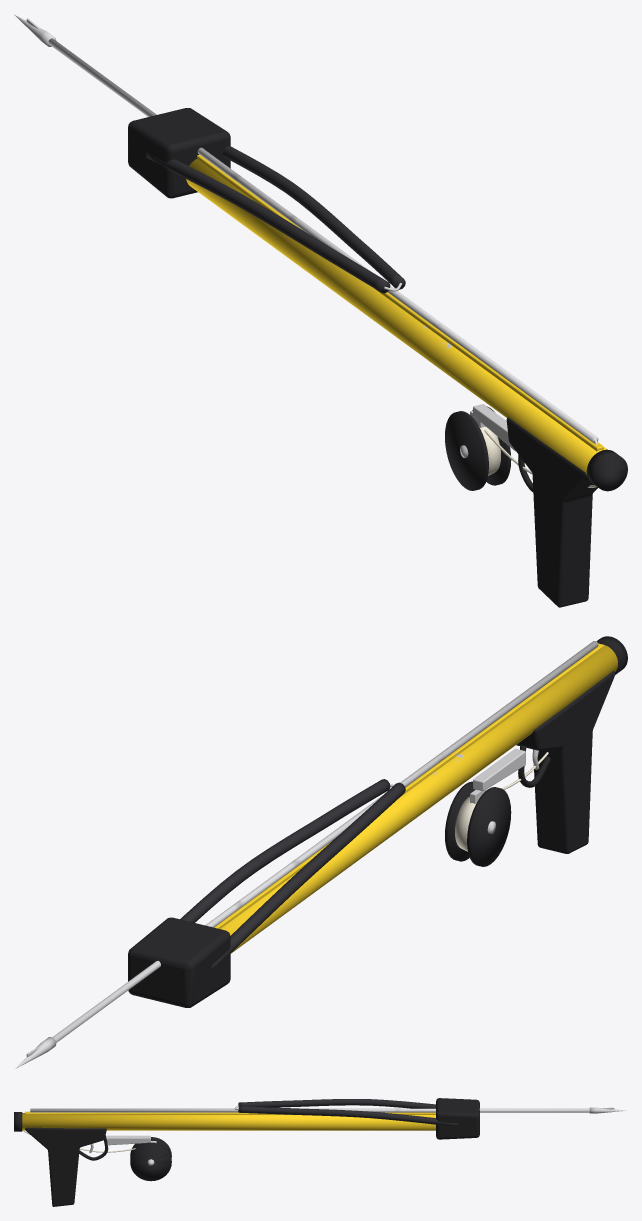
Rendered from Weapon_HarpoonGun.fbx.
3 renders of one model, top to bottom at view 1: azimuth 30°, elevation 25°; view 2: azimuth 150°, elevation 25°; view 3: azimuth 270°, elevation 25°, orthographic. The views are drawn at different scales.
Visible parts, largest first — view 1: Weapon_HarpoonGun_Game; view 2: Weapon_HarpoonGun_Game; view 3: Weapon_HarpoonGun_Game.
Part boxes in pixels (x1,y1,x2,y2): Weapon_HarpoonGun_Game: (14,14,627,607); Weapon_HarpoonGun_Game: (15,636,627,1068); Weapon_HarpoonGun_Game: (14,1098,625,1206).
Size of the model in its own units: 0.0718 by 0.1992 by 1.12.
